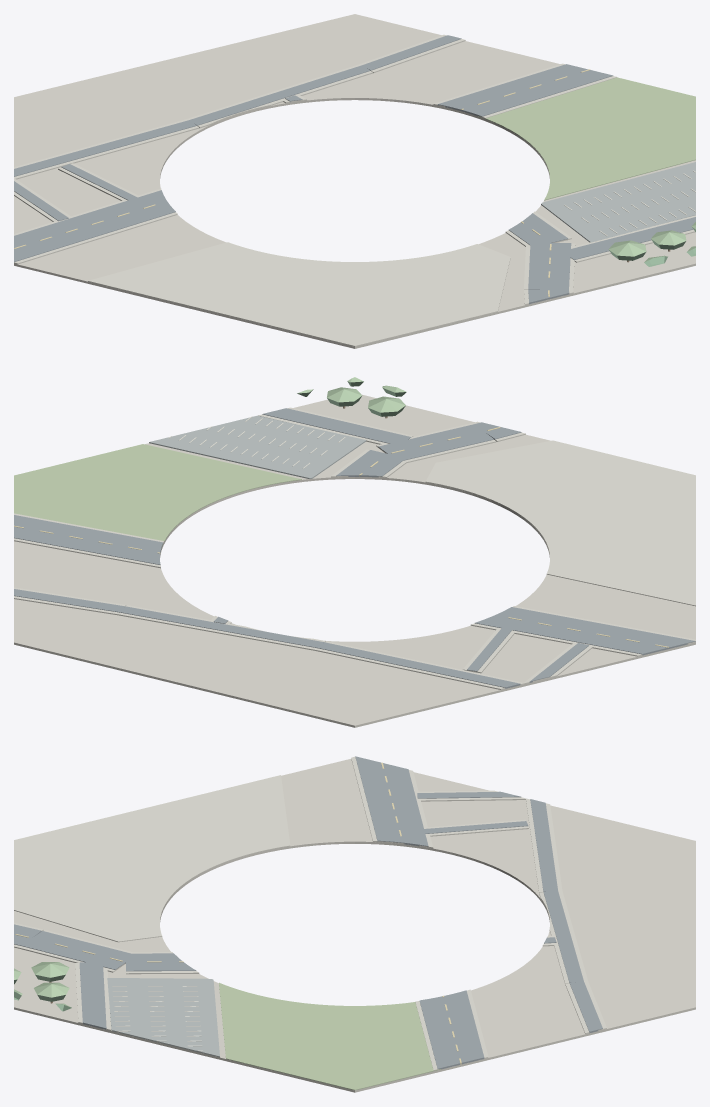
The model's file is surround-P01.glb.
The picture shows the model from 3 angles, top to bottom: view 1: azimuth 30°, elevation 25°; view 2: azimuth 150°, elevation 25°; view 3: azimuth 270°, elevation 25°; orthographic projection.
Parts seen in each view (by area): view 1: P01_neutral, P01_pave, P01_road, P01_grass, P01_parking, P01_tree2, P01_tree; view 2: P01_neutral, P01_pave, P01_road, P01_grass, P01_parking, P01_tree2; view 3: P01_neutral, P01_pave, P01_road, P01_grass, P01_parking, P01_tree2, P01_white.
Boxes of the visible parts, x1=… form: P01_neutral: x1=14, y1=14, x2=695, y2=348; P01_pave: x1=14, y1=34, x2=695, y2=346; P01_road: x1=14, y1=35, x2=695, y2=304; P01_grass: x1=478, y1=77, x2=695, y2=200; P01_parking: x1=541, y1=162, x2=695, y2=242; P01_tree2: x1=608, y1=222, x2=695, y2=262; P01_tree: x1=609, y1=227, x2=695, y2=266; P01_neutral: x1=14, y1=394, x2=695, y2=727; P01_pave: x1=14, y1=407, x2=695, y2=689; P01_road: x1=14, y1=408, x2=695, y2=688; P01_grass: x1=14, y1=444, x2=301, y2=545; P01_parking: x1=149, y1=415, x2=366, y2=478; P01_tree2: x1=298, y1=377, x2=406, y2=412; P01_neutral: x1=14, y1=759, x2=695, y2=1092; P01_pave: x1=14, y1=756, x2=606, y2=1070; P01_road: x1=14, y1=756, x2=602, y2=1069; P01_grass: x1=219, y1=982, x2=440, y2=1090; P01_parking: x1=107, y1=978, x2=219, y2=1057; P01_tree2: x1=14, y1=962, x2=70, y2=1007; P01_white: x1=112, y1=986, x2=202, y2=1051.
Size of the model in its own units: 16.17 by 0.4891 by 14.
